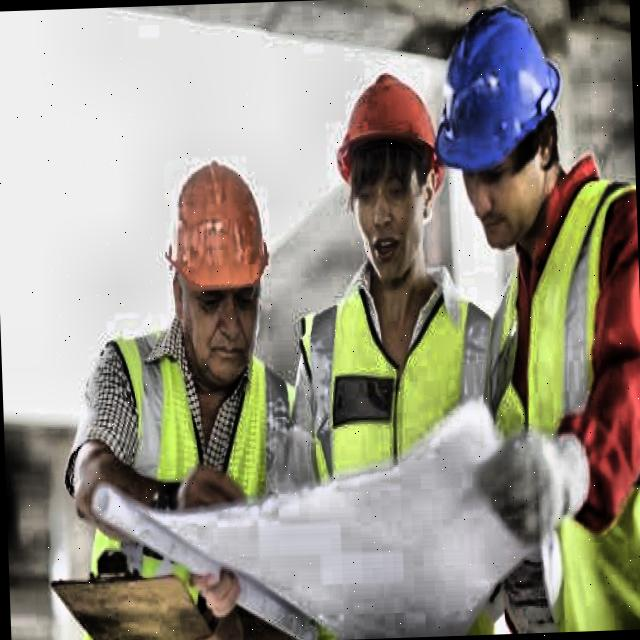helmet: (430, 1, 586, 259), (317, 48, 455, 292), (157, 134, 286, 390)
